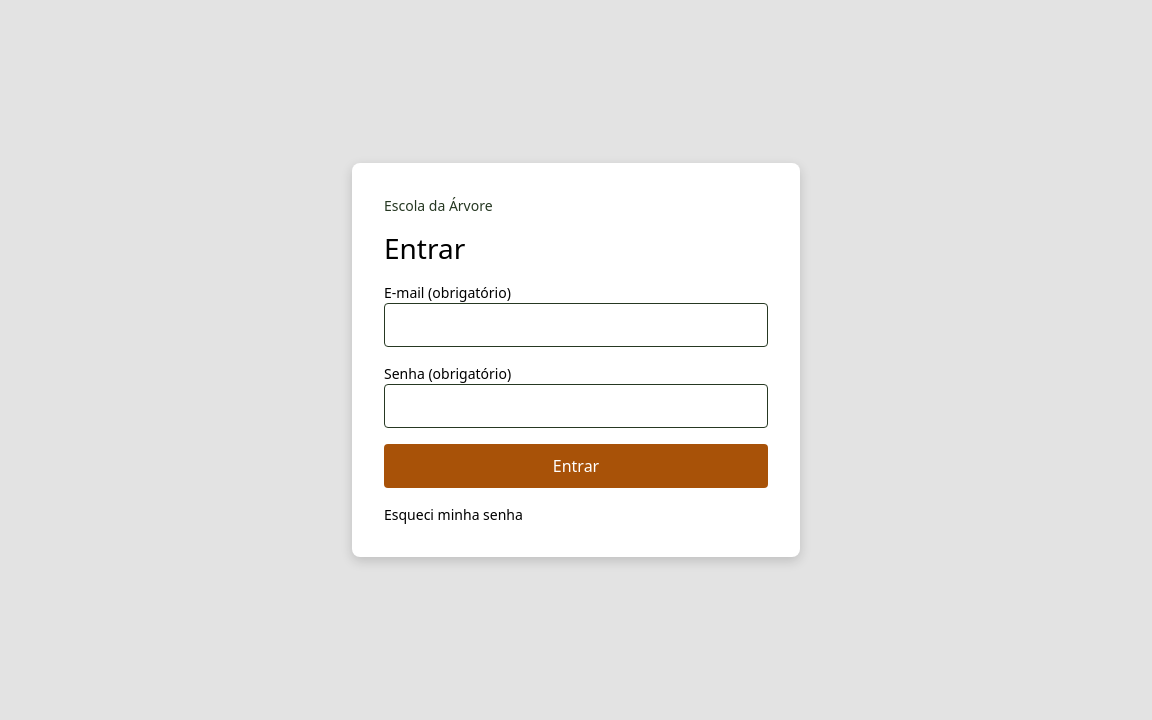
Test case: US1 — entrada e painel › menu de quem só tem um perfil fica limitado a esse perfil, nunca à união
In the field labelled "E-mail (obrigatório)": (576,325) [384, 303, 768, 347], type "sec@escola.local"
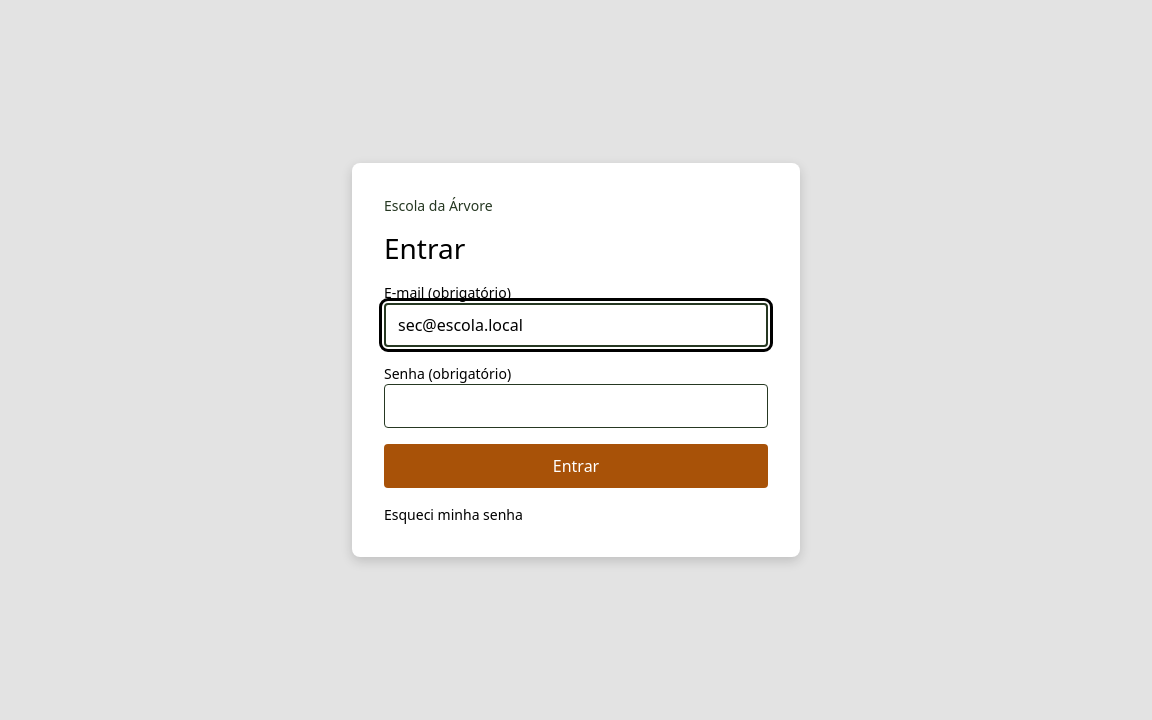
In the password field labelled "Senha (obrigatório)": (576,406) [384, 384, 768, 428], type "senha123"
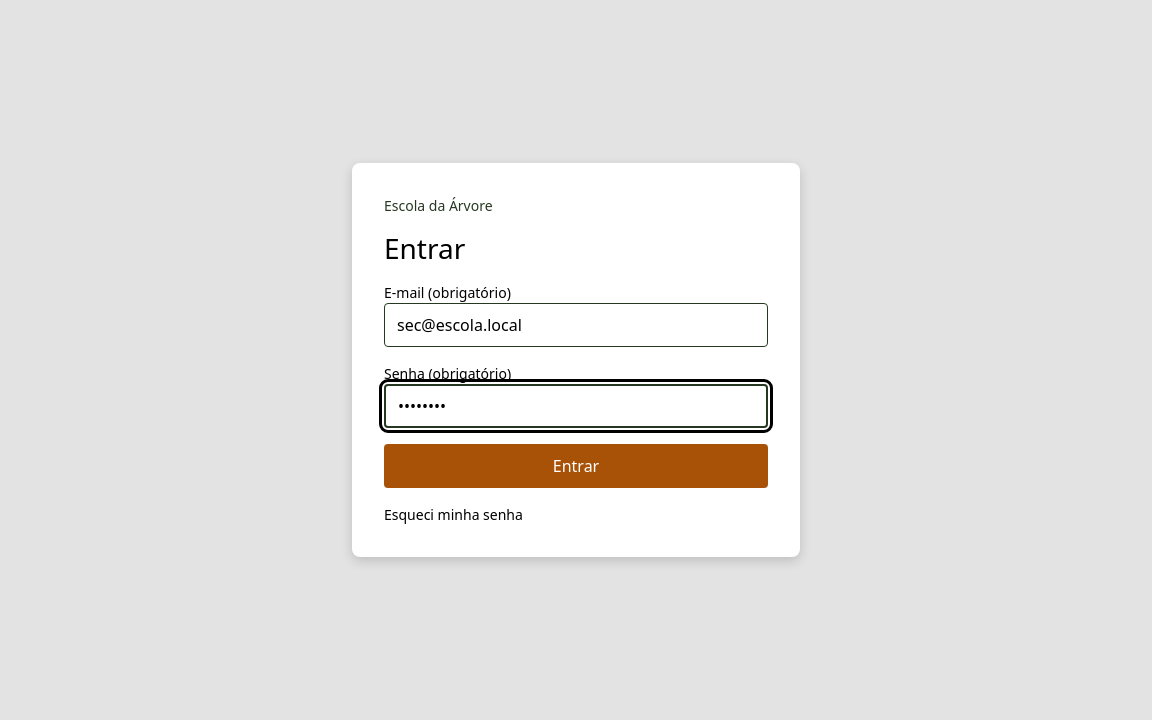
Click the button "Entrar": (576,466) [384, 444, 768, 488]
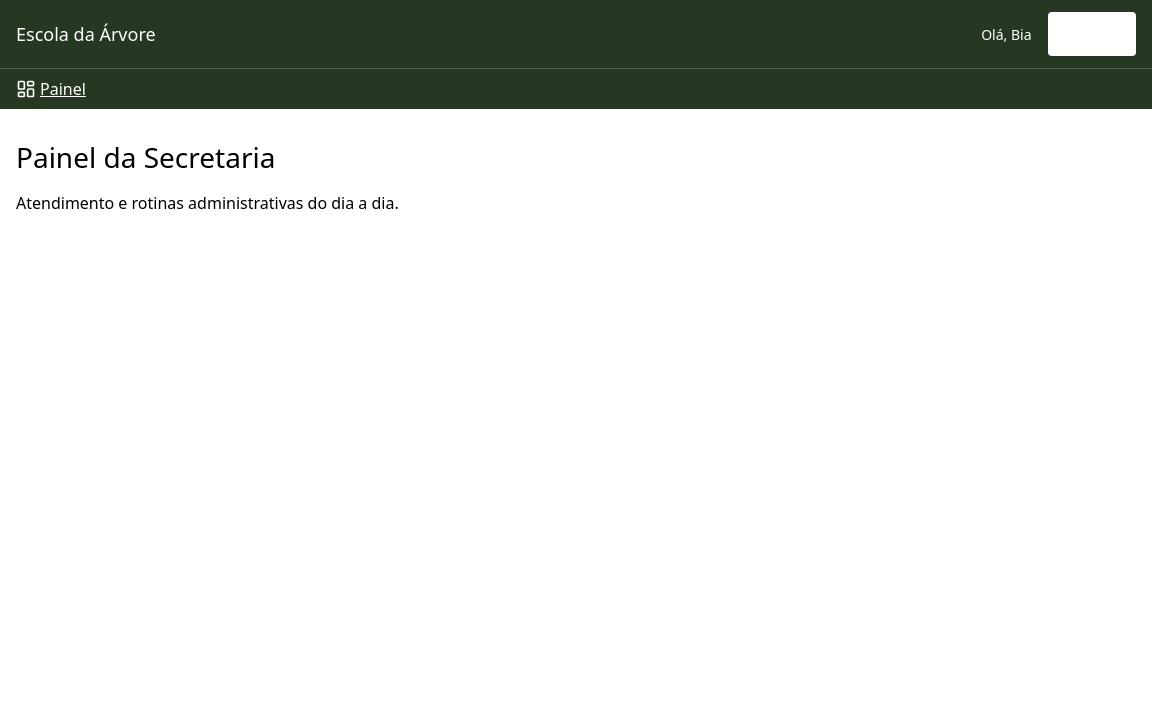
Expected: the heading "Painel da Secretaria" is shown, [16, 138, 275, 176]
